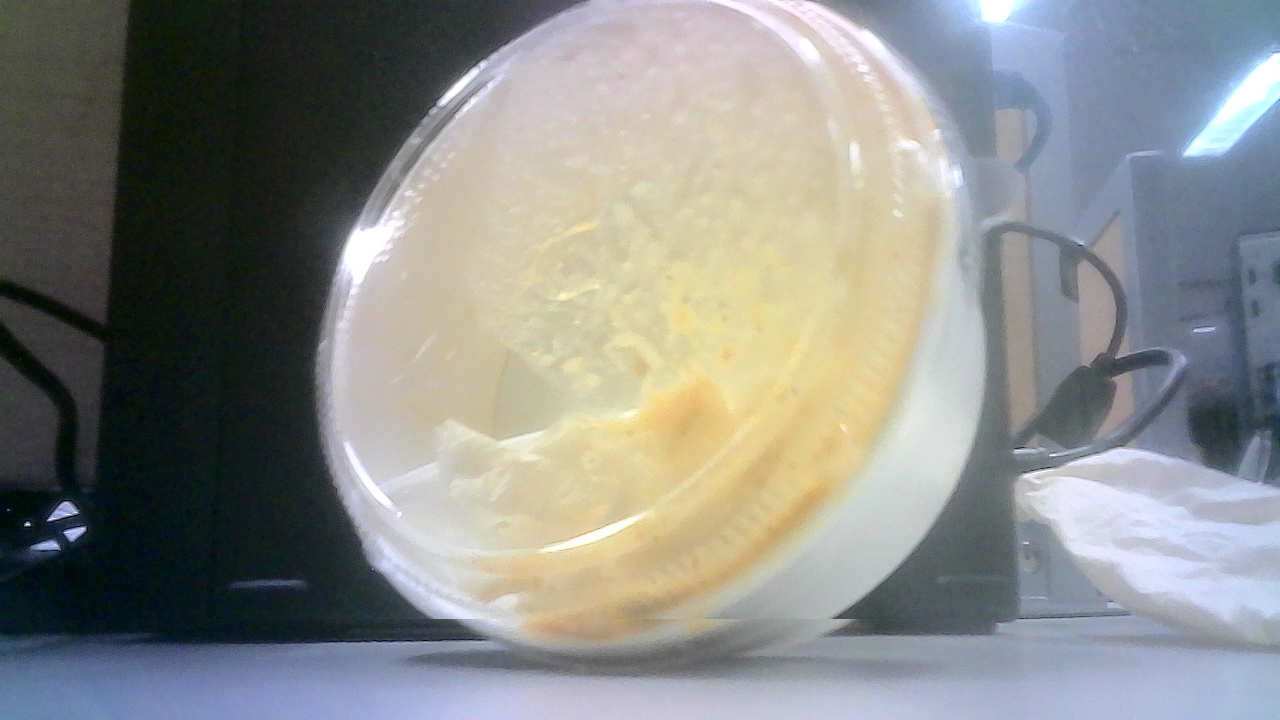Undefined_Waste: (314, 0, 1004, 674)
